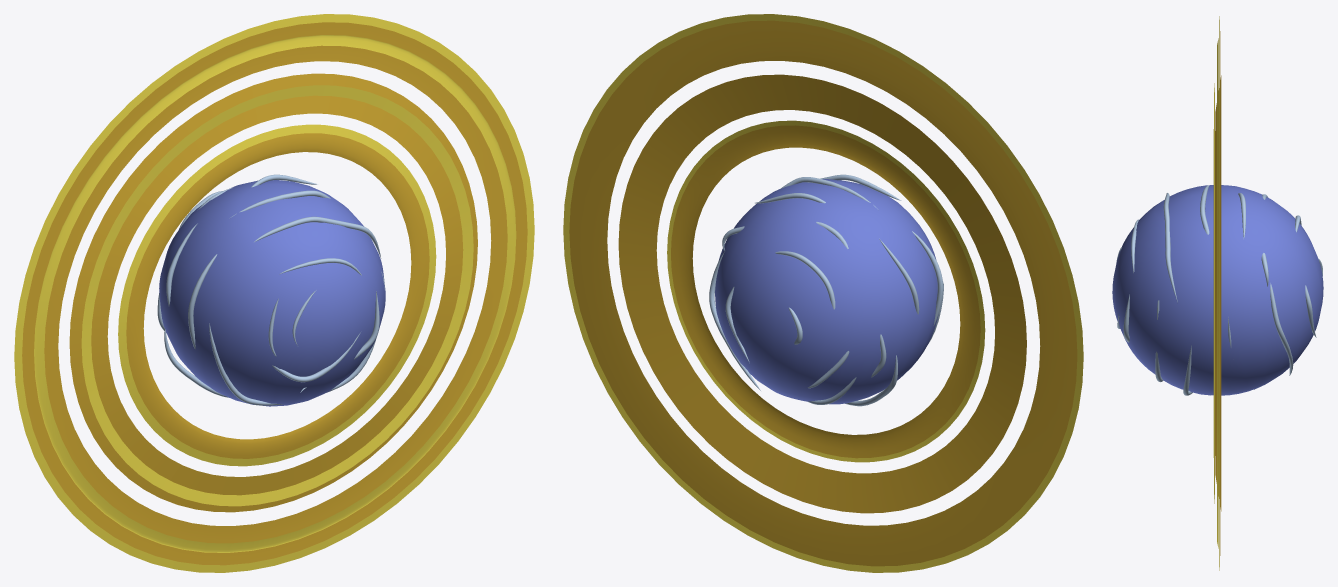
Rendered from saturn2.fbx.
3 renders of one model, left to right at view 1: azimuth 30°, elevation 25°; view 2: azimuth 150°, elevation 25°; view 3: azimuth 270°, elevation 25°, orthographic. The views are drawn at different scales.
Parts seen in each view (by area): view 1: saturn2; view 2: saturn2; view 3: saturn2.
Boxes of the visible parts, x1,y1,x2,y2 form: saturn2: [14, 14, 534, 572]; saturn2: [563, 14, 1083, 572]; saturn2: [1112, 16, 1323, 570].
Size of the model in its own units: 13725 by 13725 by 5179.
